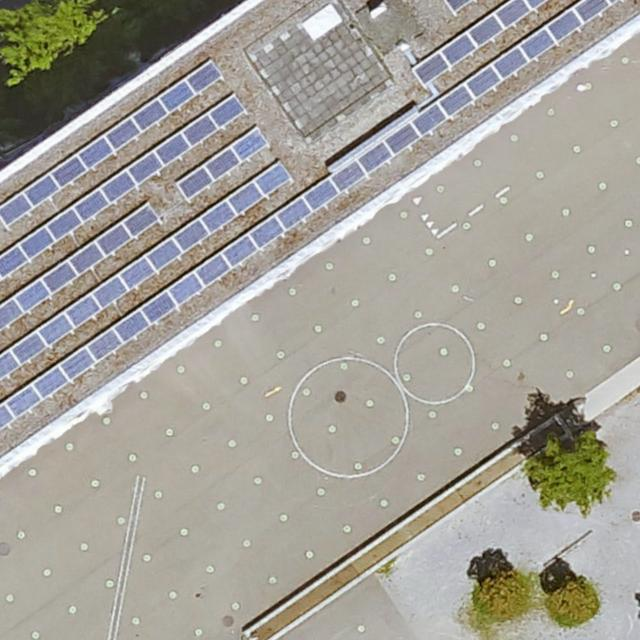tree: (0, 0, 112, 109), (530, 432, 615, 512), (475, 566, 531, 621), (549, 581, 600, 624)
